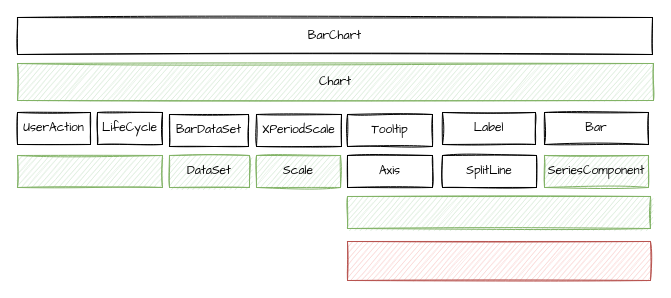
The diagram is 671 pixels wide and 298 high, and some of its shapes have lost their labels. Each missing label, with the centre of its shape:
"Component" goes at point 498,212.
"Drawing Engine" goes at point 498,260.
"Event" goes at point 89,171.
